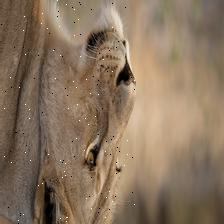Lion: (0, 0, 135, 224)
